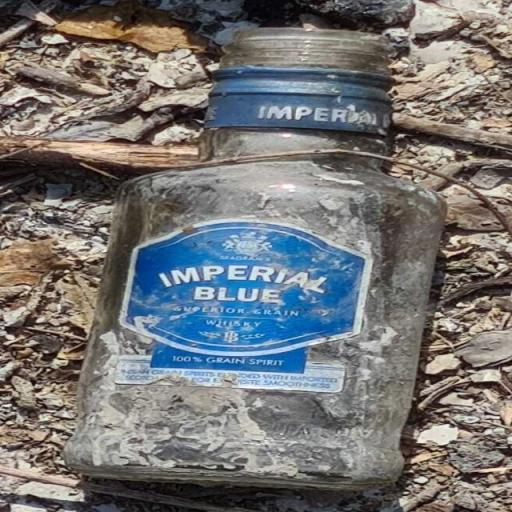glass: (67, 6, 460, 512)
